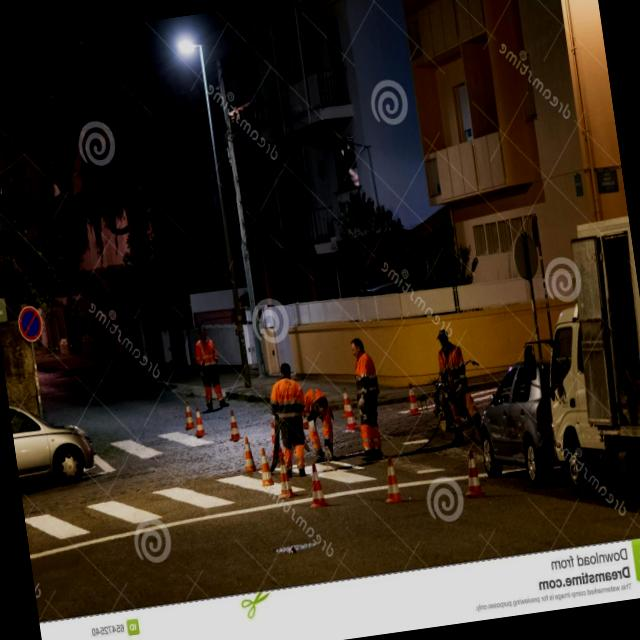no-helmet: (343, 330, 368, 358), (275, 360, 296, 380)
vest: (351, 353, 387, 422), (265, 374, 308, 430), (192, 336, 224, 377)
